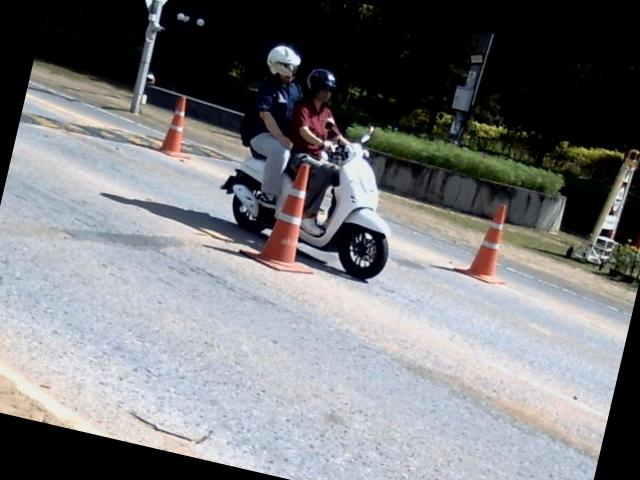helmet: (301, 61, 349, 106), (266, 44, 300, 77)
motor: (298, 126, 389, 279), (221, 155, 293, 232)
person: (289, 68, 349, 235), (240, 44, 301, 206)
